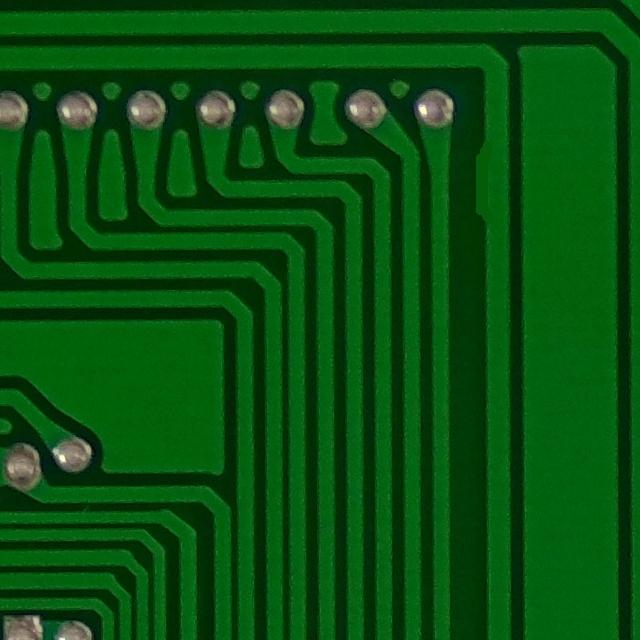spur: (456, 130, 512, 233)
